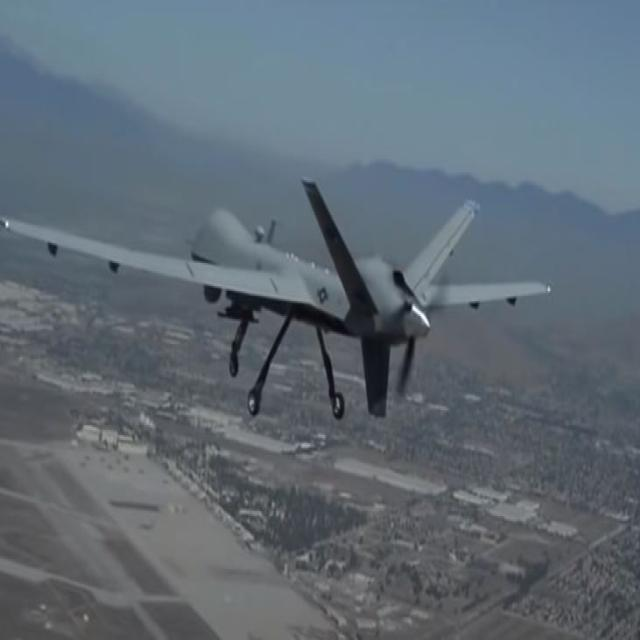iha: (2, 170, 551, 422)
